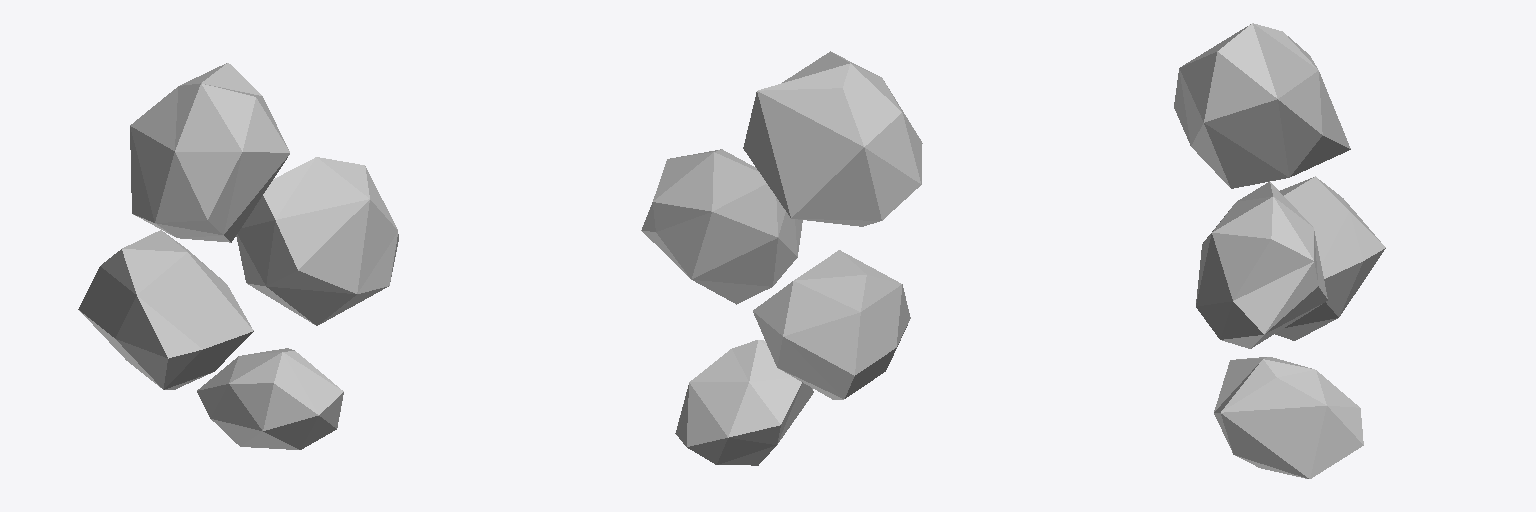
Rendered from thoughtwell.obj.
3 views of the same model, side by side, from view 1: azimuth 30°, elevation 25°; view 2: azimuth 150°, elevation 25°; view 3: azimuth 270°, elevation 25° (orthographic).
Parts seen in each view (by area): view 1: temporal_bloom.004; view 2: temporal_bloom.004; view 3: temporal_bloom.004.
Boxes of the visible parts, <box> form: temporal_bloom.004: <box>78,63,398,449</box>; temporal_bloom.004: <box>641,51,922,465</box>; temporal_bloom.004: <box>1174,23,1385,478</box>.
Bounding box in the file's own units: 0.3606 × 0.5101 × 0.2461.